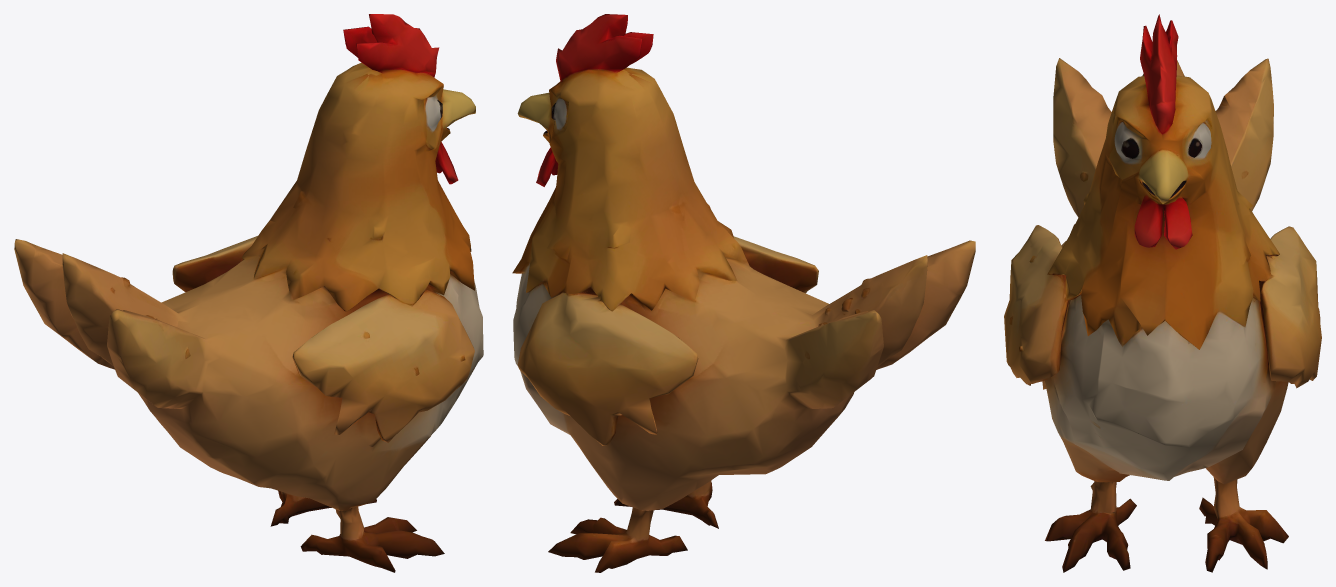
Rendered from chicken.glb.
3 renders of one model, left to right at view 1: azimuth 30°, elevation 25°; view 2: azimuth 150°, elevation 25°; view 3: azimuth 270°, elevation 25°, orthographic. The views are drawn at different scales.
Parts seen in each view (by area): view 1: tripo_node_978975dd-e4af-4026-9d7e-18ccacb76af7; view 2: tripo_node_978975dd-e4af-4026-9d7e-18ccacb76af7; view 3: tripo_node_978975dd-e4af-4026-9d7e-18ccacb76af7.
Part boxes in pixels (box(x1,y1,x2,y2)): tripo_node_978975dd-e4af-4026-9d7e-18ccacb76af7: box(14, 14, 483, 572); tripo_node_978975dd-e4af-4026-9d7e-18ccacb76af7: box(512, 14, 975, 572); tripo_node_978975dd-e4af-4026-9d7e-18ccacb76af7: box(1004, 14, 1321, 572).
Size of the model in its own units: 0.8394 by 1 by 0.5302.
1 material, 1 textured.
